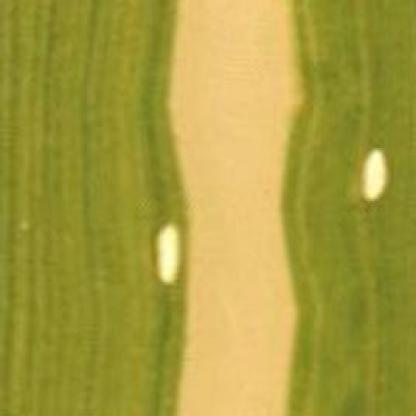whorl-maggot: (354, 138, 390, 210), (151, 218, 182, 296)
